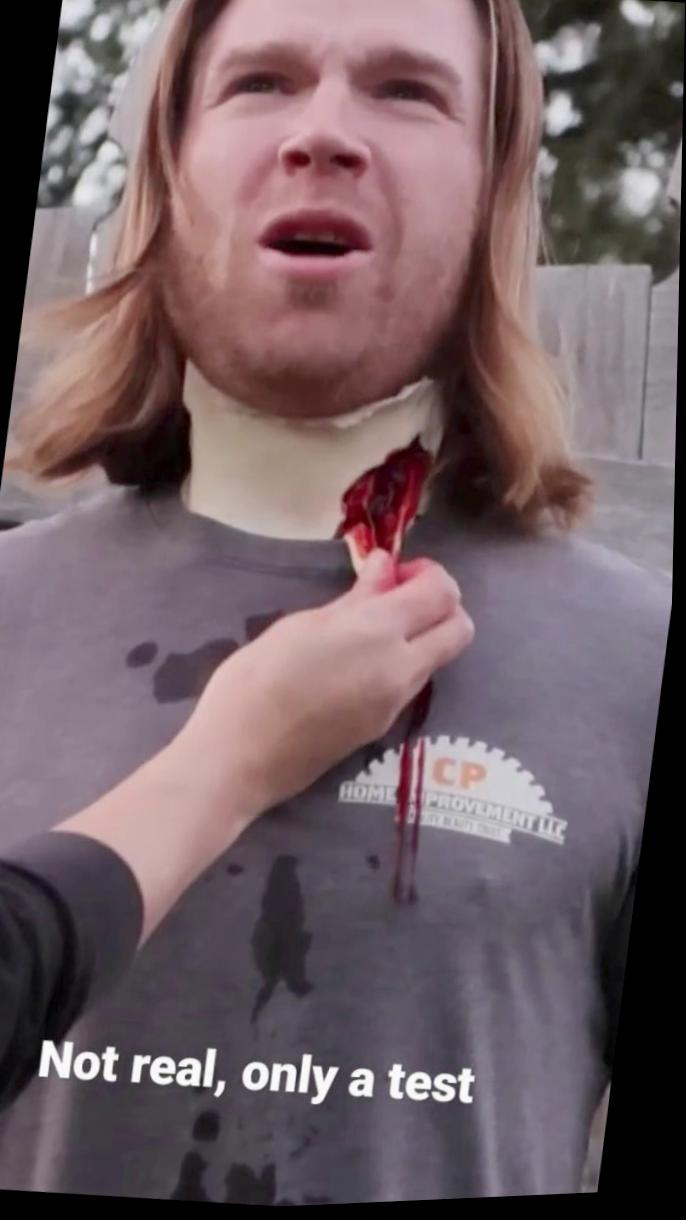Fire: (338, 441, 434, 574), (395, 685, 437, 910)
